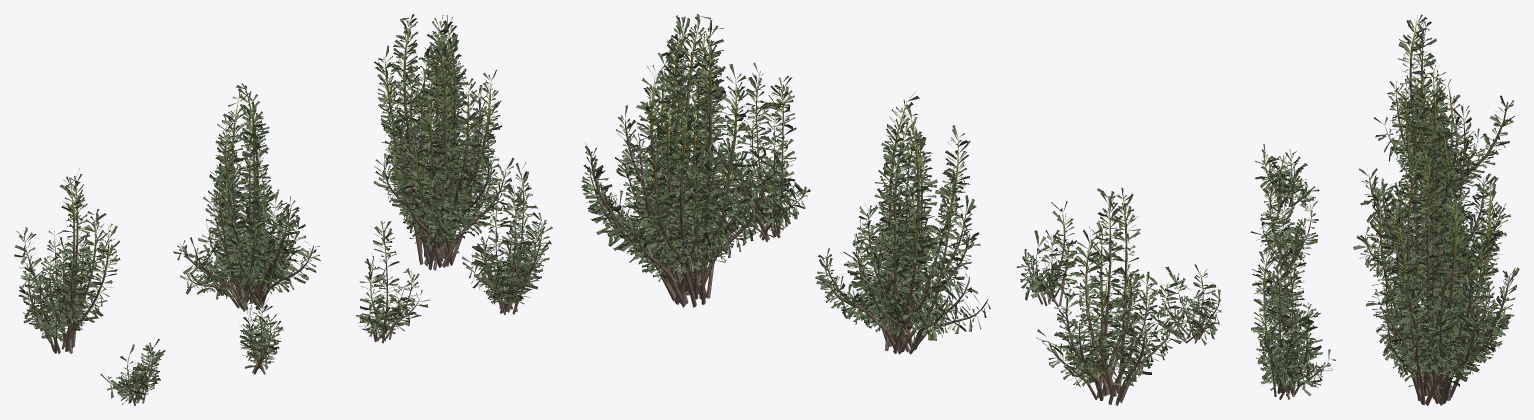
Rendered from desert_hero_othonna.glb.
The picture shows the model from 3 angles, left to right: view 1: azimuth 30°, elevation 25°; view 2: azimuth 150°, elevation 25°; view 3: azimuth 270°, elevation 25°; orthographic projection. The views are drawn at different scales.
Visible parts, largest first — view 1: othonna_cerarioides_a, othonna_cerarioides_b, othonna_cerarioides_c, othonna_cerarioides_d, othonna_cerarioides_e, othonna_cerarioides_f, othonna_cerarioides_g; view 2: othonna_cerarioides_a, othonna_cerarioides_b, othonna_cerarioides_c, othonna_cerarioides_d, othonna_cerarioides_g, othonna_cerarioides_f, othonna_cerarioides_e; view 3: othonna_cerarioides_a, othonna_cerarioides_b, othonna_cerarioides_d, othonna_cerarioides_c, othonna_cerarioides_e, othonna_cerarioides_f, othonna_cerarioides_g.
Boxes of the visible parts, <box> form: othonna_cerarioides_a: <box>374,14,513,270</box>; othonna_cerarioides_b: <box>173,83,320,311</box>; othonna_cerarioides_c: <box>14,168,120,353</box>; othonna_cerarioides_d: <box>462,162,552,314</box>; othonna_cerarioides_e: <box>356,221,430,343</box>; othonna_cerarioides_f: <box>239,286,283,374</box>; othonna_cerarioides_g: <box>100,339,165,405</box>; othonna_cerarioides_a: <box>581,14,778,307</box>; othonna_cerarioides_b: <box>815,92,990,354</box>; othonna_cerarioides_c: <box>1036,187,1182,405</box>; othonna_cerarioides_d: <box>717,62,810,241</box>; othonna_cerarioides_g: <box>1141,264,1221,345</box>; othonna_cerarioides_f: <box>1016,201,1079,307</box>; othonna_cerarioides_e: <box>853,129,953,267</box>; othonna_cerarioides_a: <box>1366,119,1519,405</box>; othonna_cerarioides_b: <box>1353,57,1510,304</box>; othonna_cerarioides_d: <box>1251,247,1335,399</box>; othonna_cerarioides_c: <box>1374,14,1514,206</box>; othonna_cerarioides_e: <box>1252,201,1320,333</box>; othonna_cerarioides_f: <box>1250,173,1318,270</box>; othonna_cerarioides_g: <box>1255,144,1319,206</box>.
Size of the model in its own units: 3.97 by 1.97 by 1.8.
2 materials, 2 textured.
